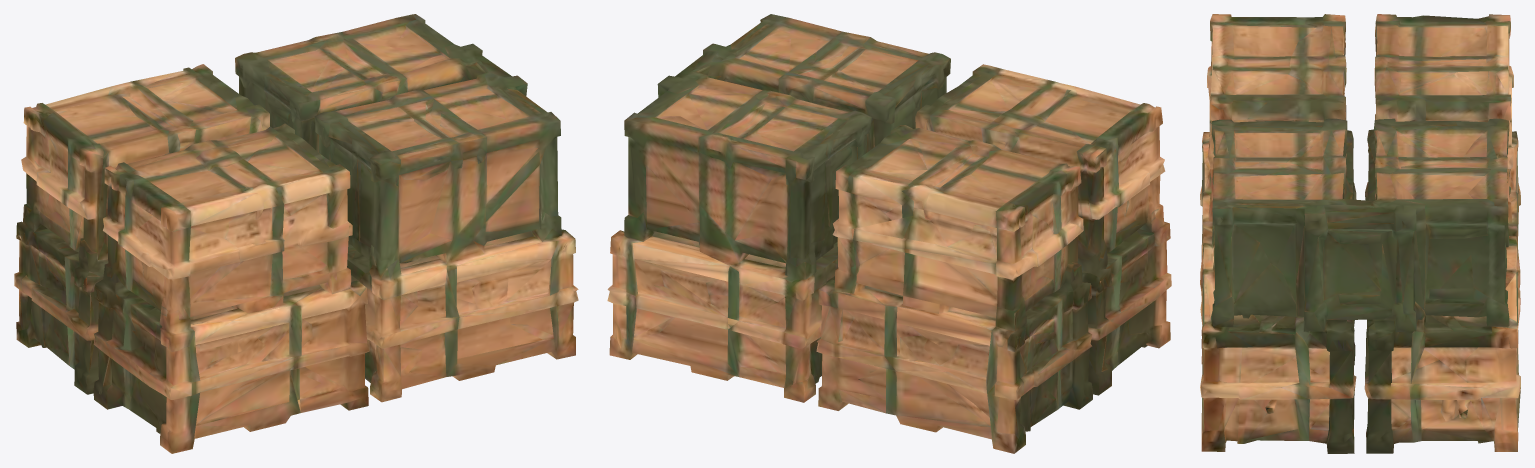
Rendered from crates.glb.
3 renders of one model, left to right at view 1: azimuth 30°, elevation 25°; view 2: azimuth 150°, elevation 25°; view 3: azimuth 270°, elevation 25°, orthographic.
Bounding box in the file's own units: 1.1 × 0.6 × 0.7254.
1 material, 1 textured.
